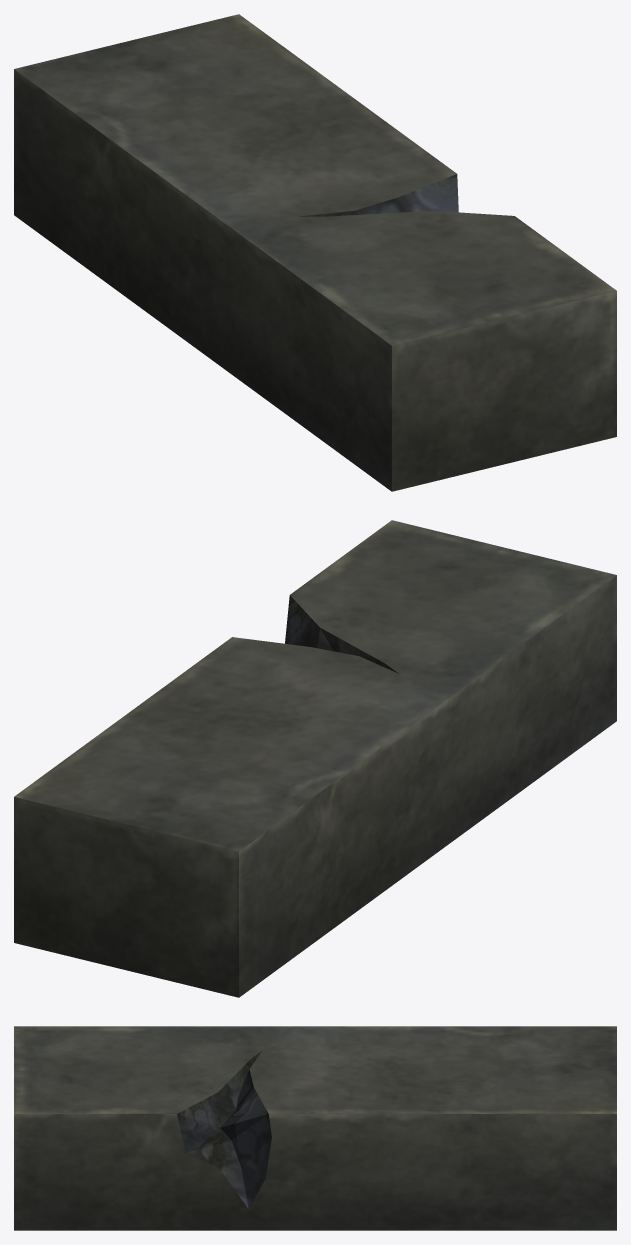
Rendered from C_taijie002.fbx.
3 views of the same model, one above another, from view 1: azimuth 30°, elevation 25°; view 2: azimuth 150°, elevation 25°; view 3: azimuth 270°, elevation 25° (orthographic). The views are drawn at different scales.
Visible parts, largest first — view 1: C_taijie002; view 2: C_taijie002; view 3: C_taijie002.
Boxes of the visible parts, x1,y1,x2,y2 form: C_taijie002: (14,14,616,491); C_taijie002: (14,520,616,997); C_taijie002: (14,1026,616,1230).
Size of the model in its own units: 36.67 by 22.76 by 107.
